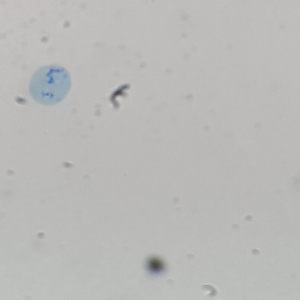aggregate reticulocyte: (27, 64, 73, 108)
